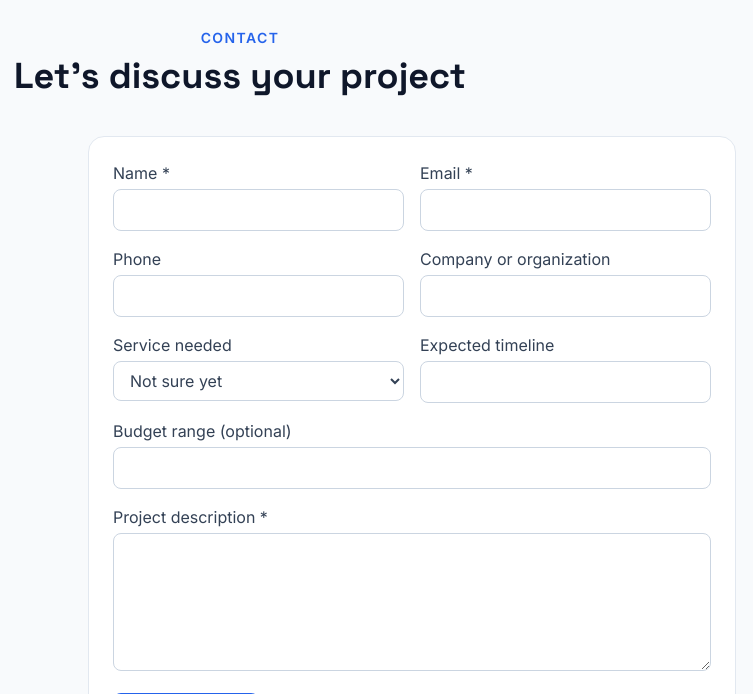
Test: shows the reference after a successful submission
The image size is (753, 694).
Step 1. Type "Amina Juma" into the field labelled "Name *" → (258, 210), box x1=113 y1=189 x2=404 y2=231
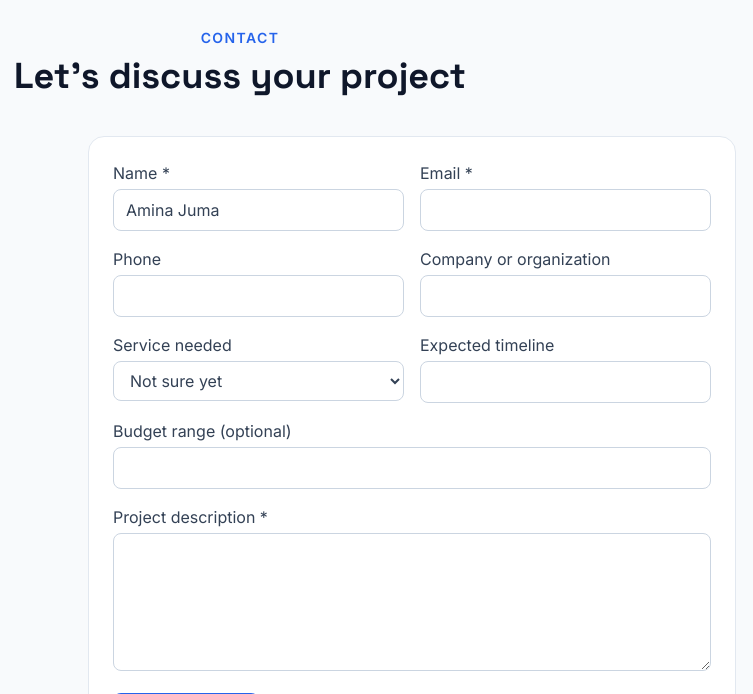
Step 2. Type "amina@example.com" into the field labelled "Email *" → (566, 210), box x1=420 y1=189 x2=711 y2=231
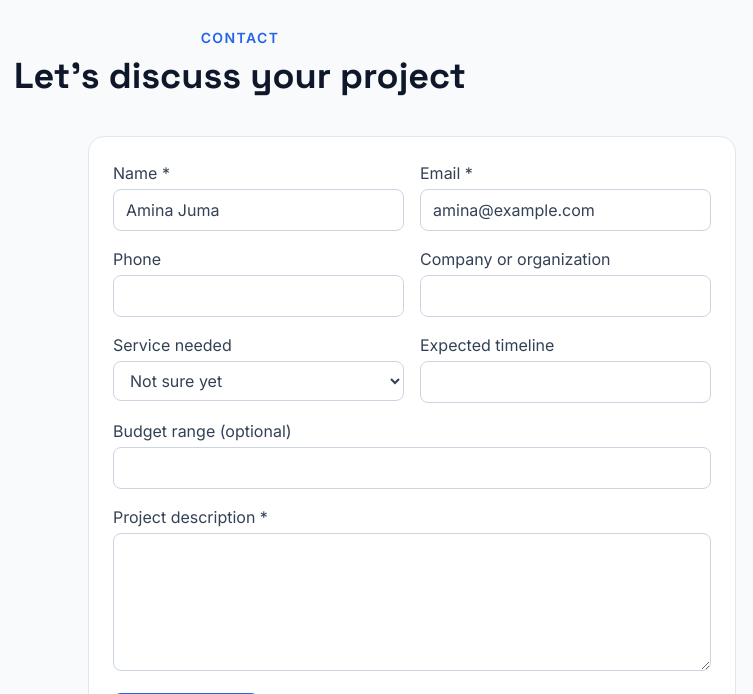
Step 3. Type "I need an inventory system." into the text box labelled "Project description *" → (412, 602), box x1=113 y1=533 x2=711 y2=671
(page scrolled)
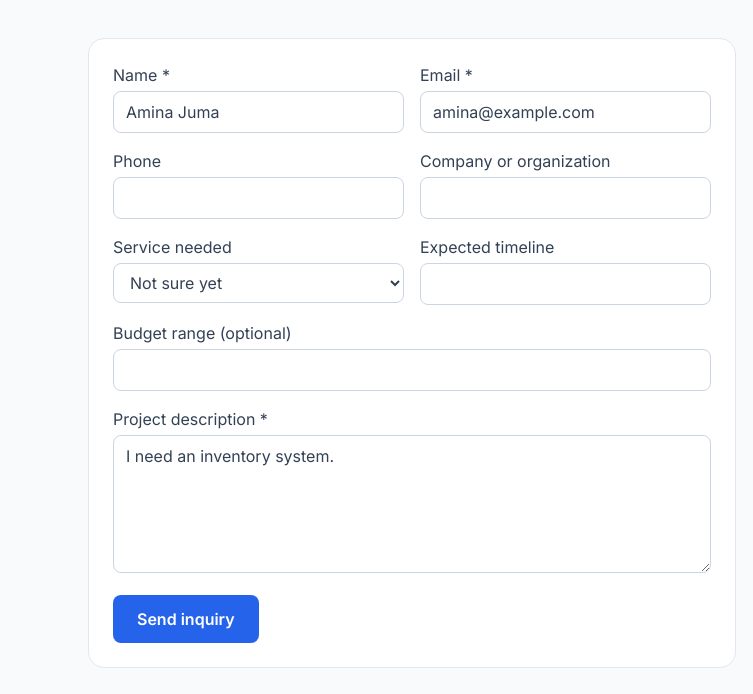
Step 4. Click the button "Send inquiry" → (186, 619), box x1=113 y1=595 x2=259 y2=643
(page scrolled)
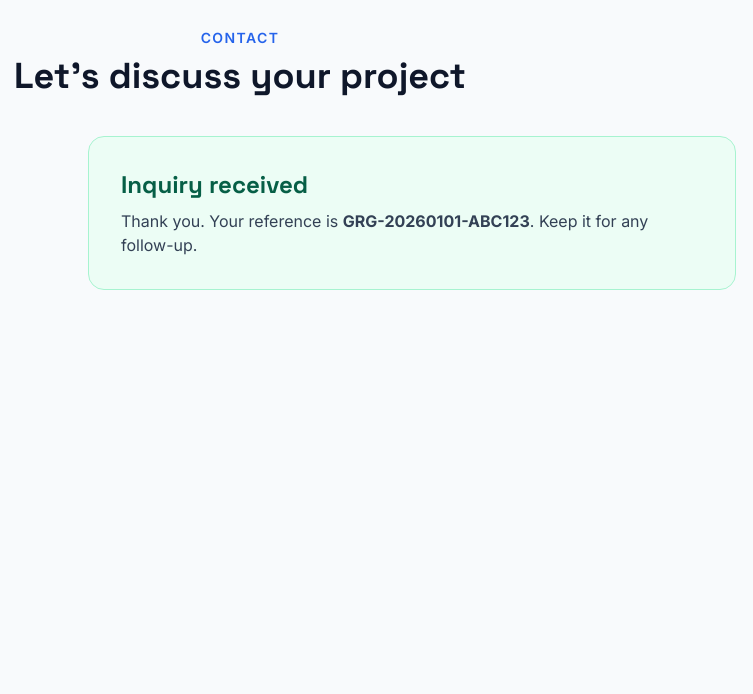
Check: the text "GRG-20260101-ABC123" is shown, box x1=343 y1=211 x2=530 y2=231
